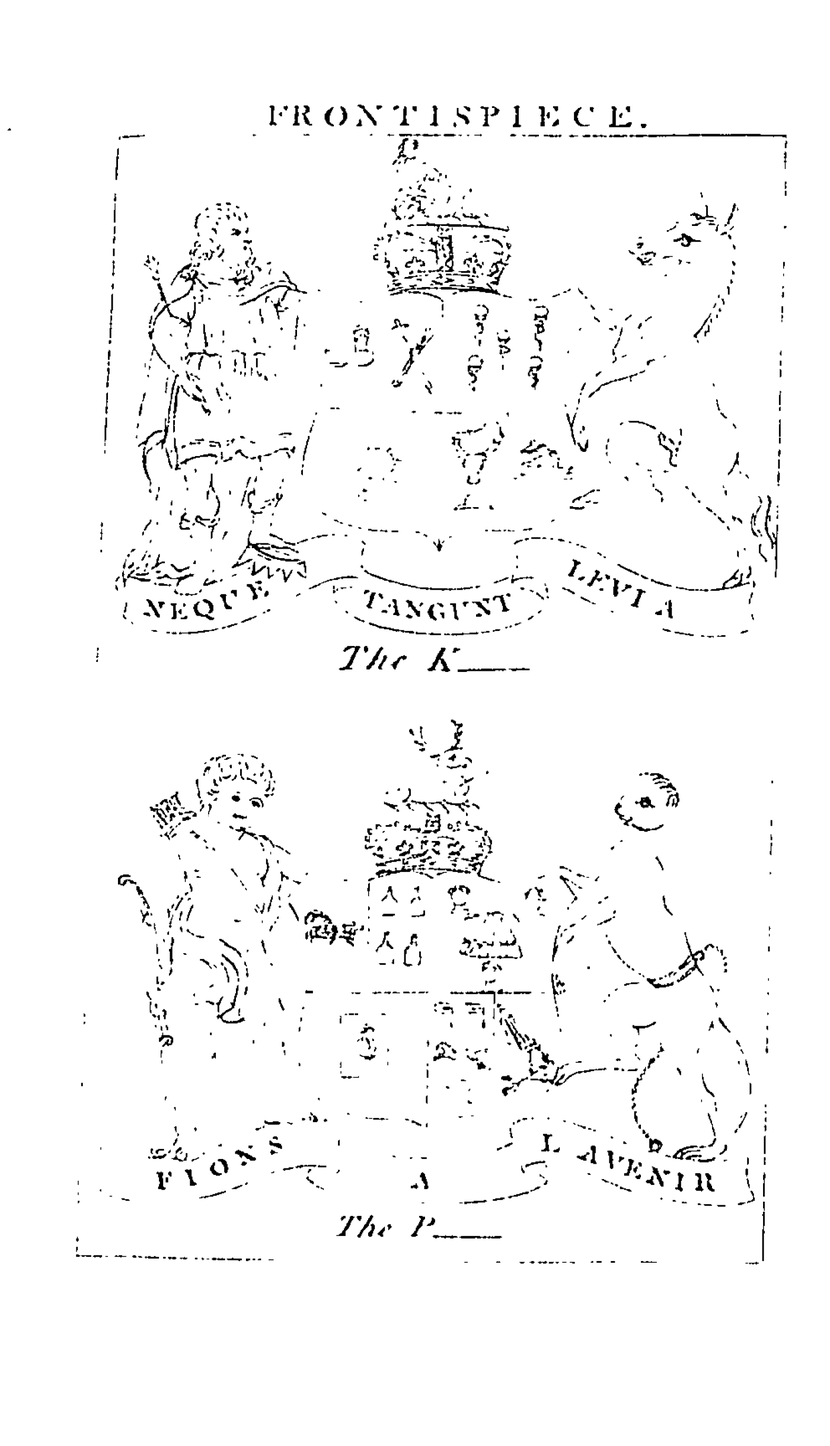coat_of_arms: (83, 77, 800, 703), (65, 713, 791, 1268)
